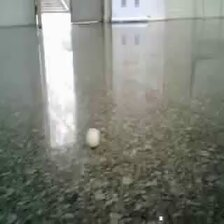w: (83, 126, 104, 150)
